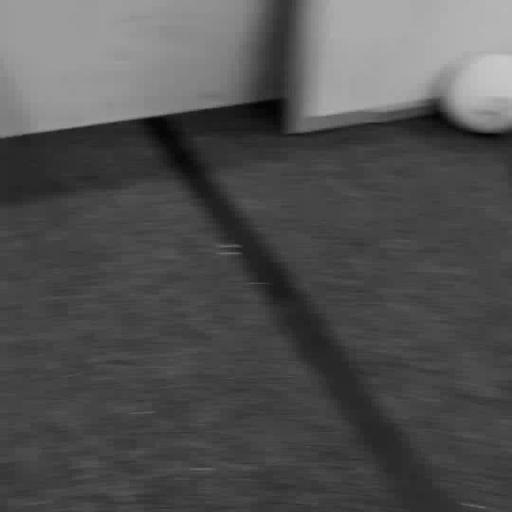fuel: (438, 54, 511, 133)
